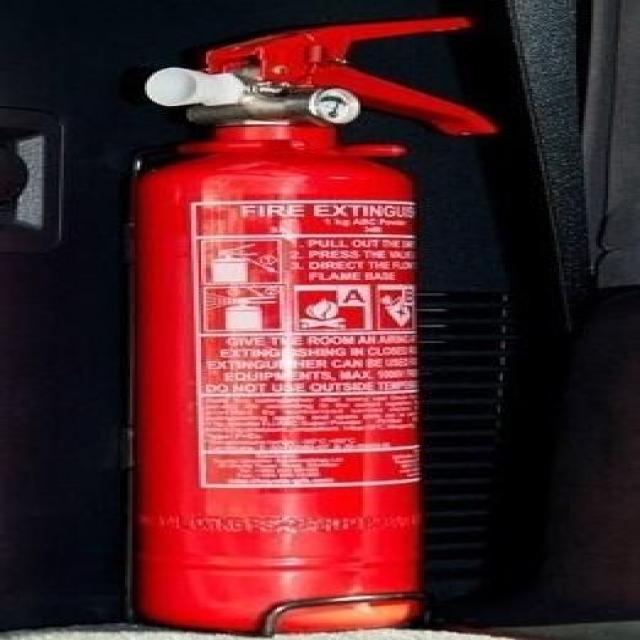fire_extinguisher: (110, 8, 510, 639)
